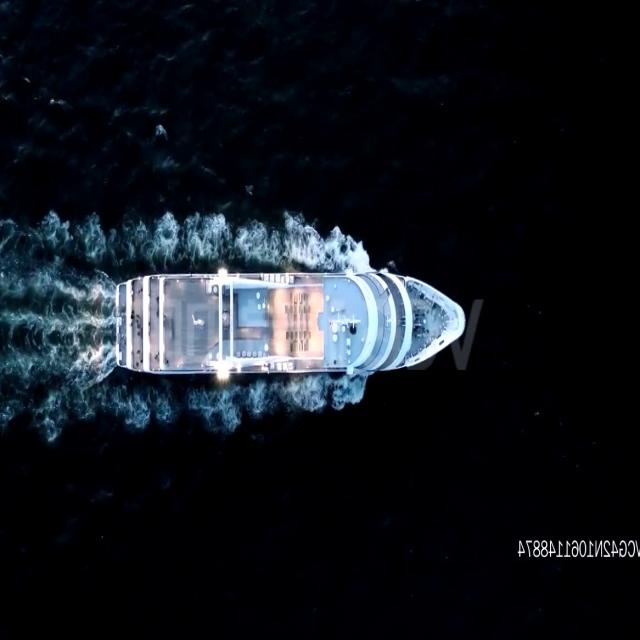passenger ship: (116, 264, 469, 384)
